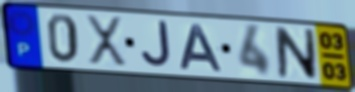0: (45, 12, 80, 65)
4: (236, 22, 274, 81)
A: (178, 23, 226, 74)
J: (139, 19, 174, 70)
N: (273, 25, 319, 82)
X: (84, 13, 129, 71)
